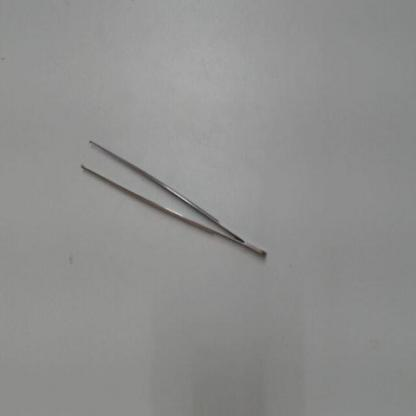Gillies Toothed Dissector: (80, 128, 270, 265)
